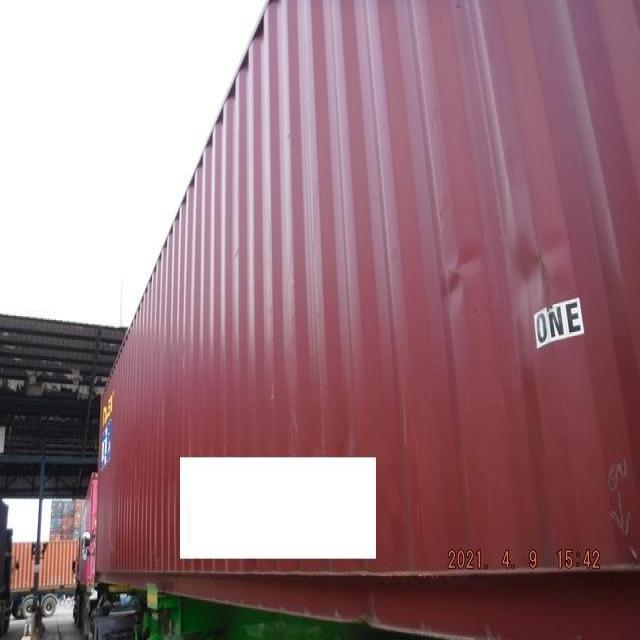Minor-Dent: (427, 229, 585, 303)
